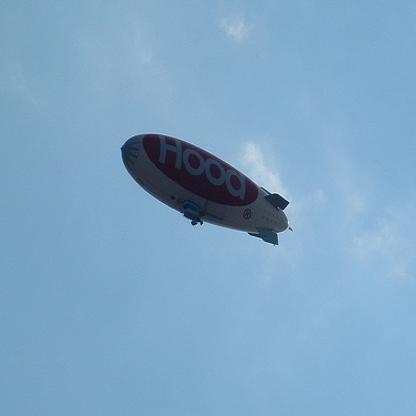Airship: (117, 130, 299, 255)
